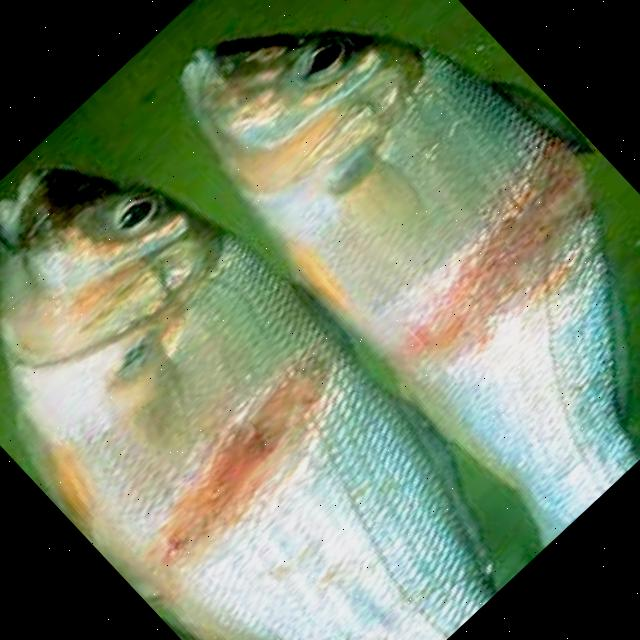Epizootic Ulcerative Syndrome -EUS-: (181, 30, 640, 542), (0, 168, 493, 640), (182, 30, 637, 535)
